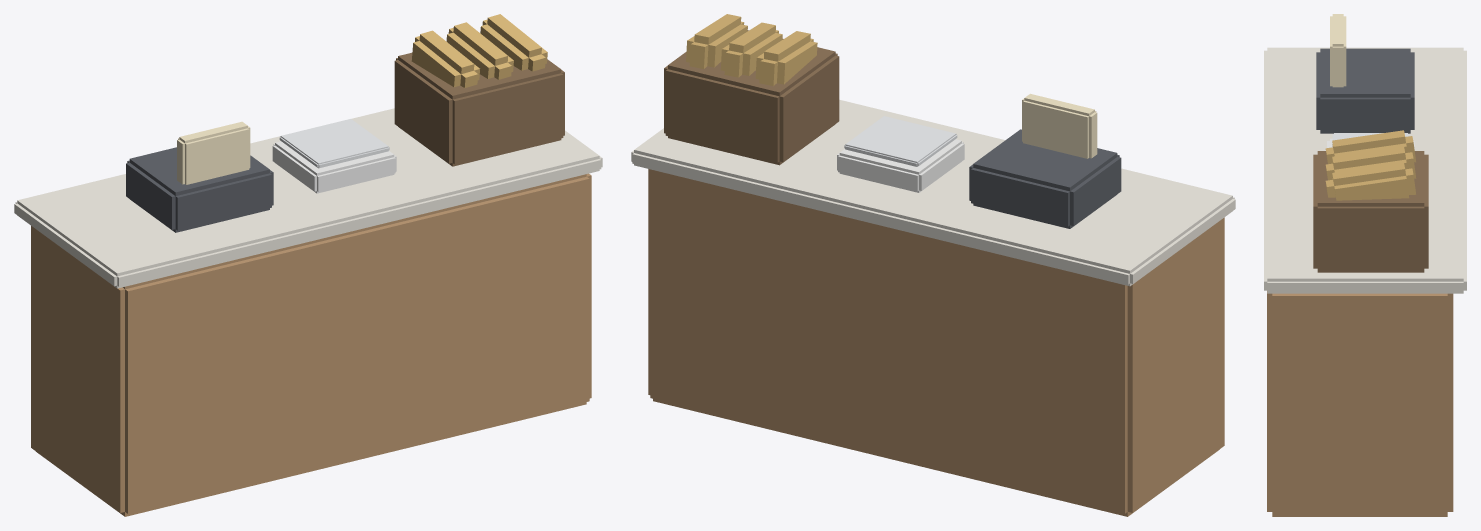
The model's file is Interior_MarketCounter.fbx.
The picture shows the model from 3 angles, left to right: view 1: azimuth 30°, elevation 25°; view 2: azimuth 150°, elevation 25°; view 3: azimuth 270°, elevation 25°; orthographic projection. The views are drawn at different scales.
Parts seen in each view (by area): view 1: Interior_MarketCounter; view 2: Interior_MarketCounter; view 3: Interior_MarketCounter.
Boxes of the visible parts, x1,y1,x2,y2 form: Interior_MarketCounter: (14, 14, 602, 516); Interior_MarketCounter: (631, 14, 1235, 516); Interior_MarketCounter: (1264, 14, 1466, 516).
Size of the model in its own units: 2.02 by 1.37 by 0.74.
